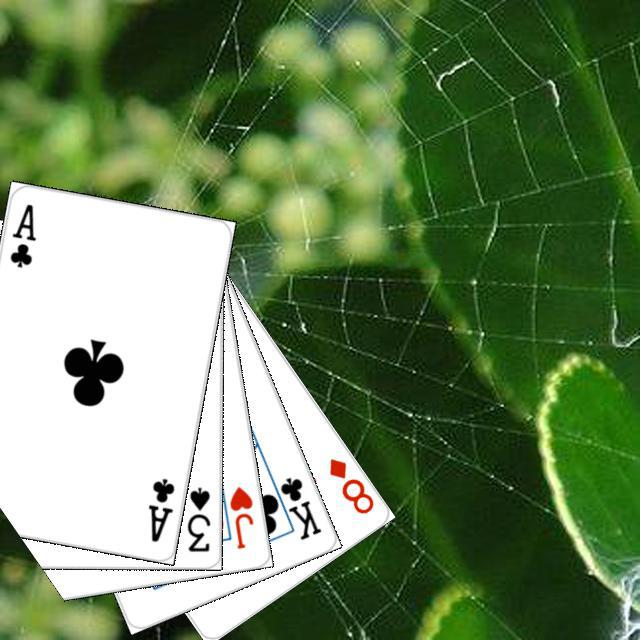3s: (182, 482, 212, 553)
8d: (324, 453, 376, 516)
Ac: (143, 473, 177, 544), (5, 199, 38, 269)
Jh: (225, 481, 255, 551)
Kc: (265, 471, 324, 542)
